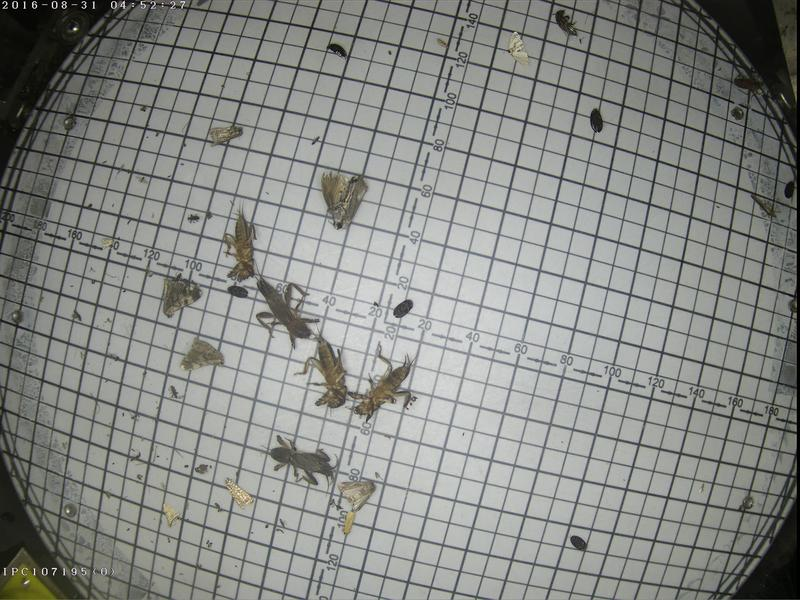Gryllotalpa orientalis: (247, 267, 318, 347), (344, 350, 420, 420), (259, 432, 339, 483), (303, 318, 346, 407), (226, 196, 254, 278)
Spodoptera exigua: (336, 478, 375, 509)
